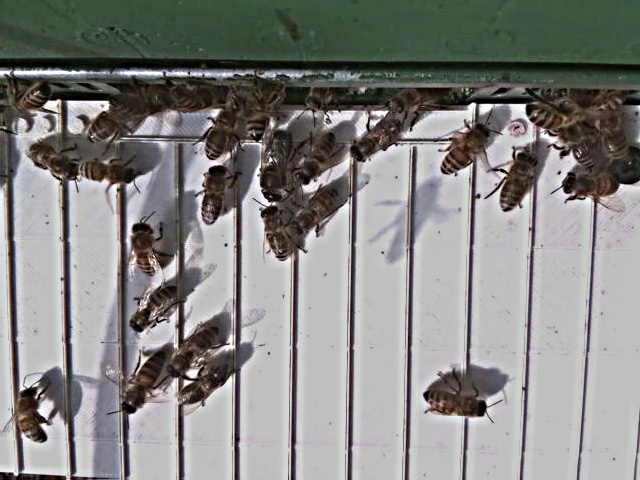Drone: (256, 130, 294, 208)
Worker: (118, 349, 168, 421), (495, 147, 541, 219), (164, 325, 222, 382), (345, 117, 404, 168), (174, 360, 234, 410), (438, 124, 490, 180), (125, 284, 177, 338), (418, 384, 489, 423), (10, 385, 50, 445), (22, 141, 80, 182), (256, 204, 294, 266), (293, 188, 342, 236), (295, 133, 337, 189), (558, 170, 620, 207), (196, 164, 229, 232), (199, 108, 238, 165), (76, 157, 140, 189), (82, 107, 128, 150), (127, 221, 160, 280), (1, 81, 55, 116)
